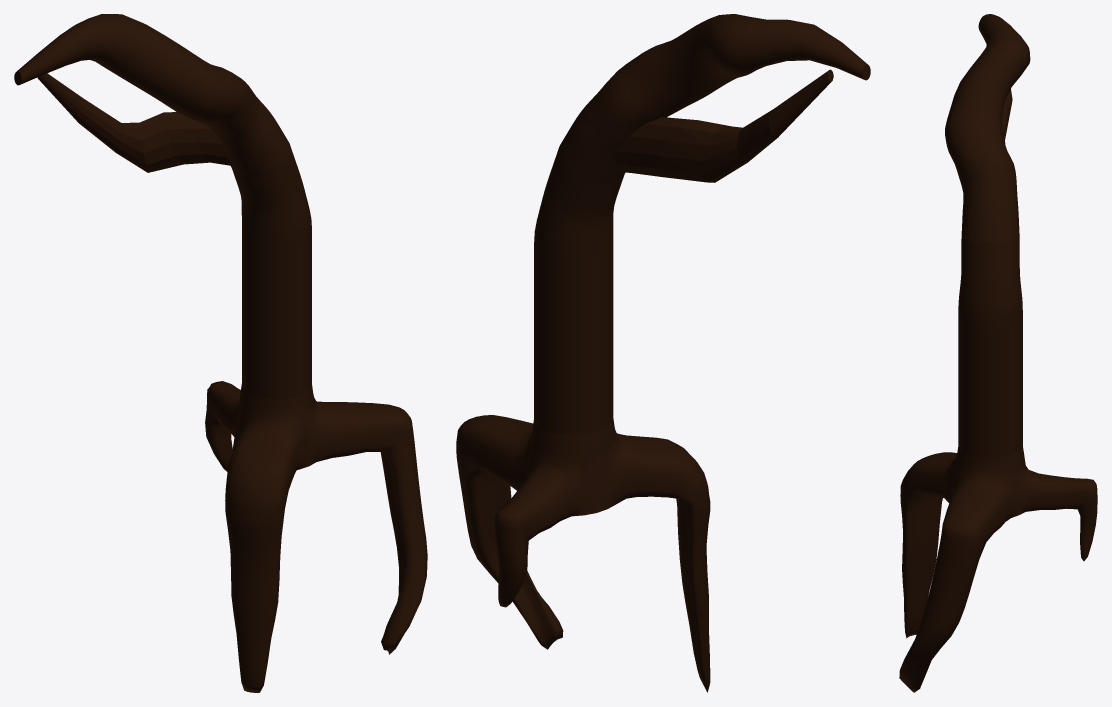
File: Arco_Tronco_Big.FBX
3 renders of one model, left to right at view 1: azimuth 30°, elevation 25°; view 2: azimuth 150°, elevation 25°; view 3: azimuth 270°, elevation 25°, orthographic. The views are drawn at different scales.
Visible parts, largest first — view 1: Arco_Tronco_Big; view 2: Arco_Tronco_Big; view 3: Arco_Tronco_Big.
Part boxes in pixels (x1,y1,x2,y2): Arco_Tronco_Big: (14,14,427,692); Arco_Tronco_Big: (456,14,870,692); Arco_Tronco_Big: (899,14,1097,692).
Bounding box in the file's own units: 130 × 217 × 68.87.
